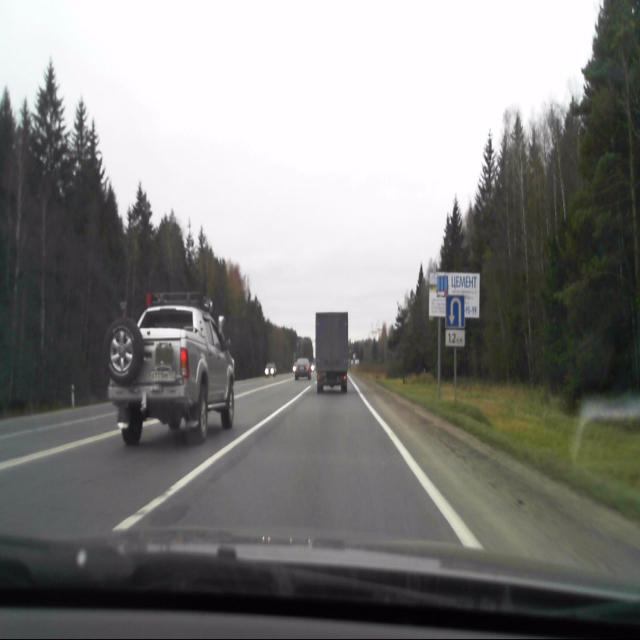road sign: (446, 295, 464, 328), (446, 330, 464, 346)
